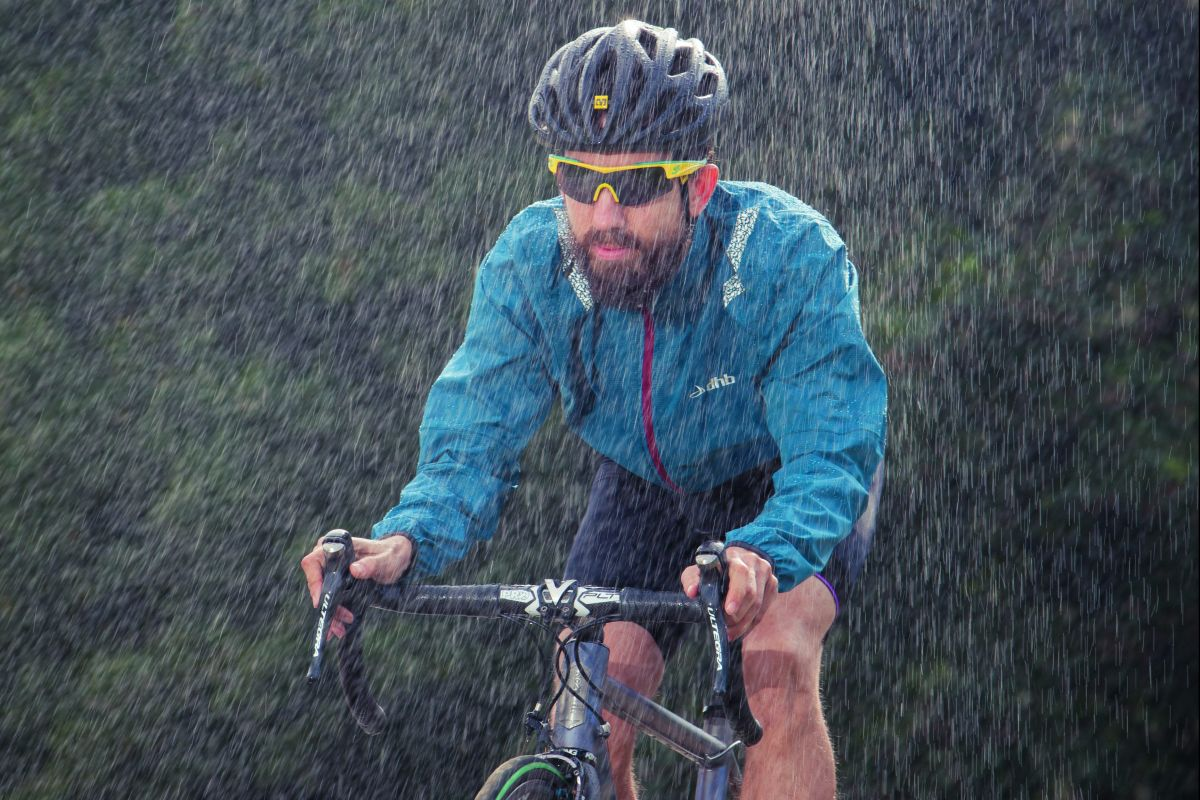helmet: (527, 19, 729, 290)
